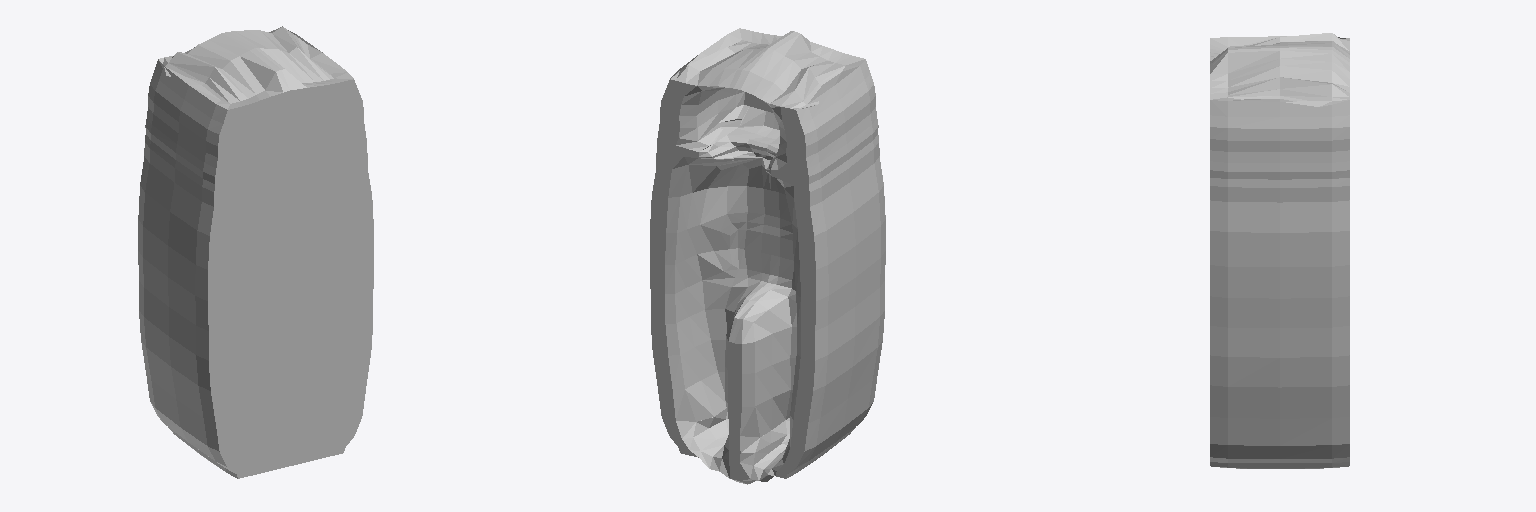
File: AlienPodInterior.obj
3 views of the same model, side by side, from view 1: azimuth 30°, elevation 25°; view 2: azimuth 150°, elevation 25°; view 3: azimuth 270°, elevation 25° (orthographic).
Visible parts, largest first — view 1: AlienPodInterior:pCube1; view 2: AlienPodInterior:pCube1; view 3: AlienPodInterior:pCube1.
Boxes of the visible parts, <box> form: AlienPodInterior:pCube1: <box>138,26,373,478</box>; AlienPodInterior:pCube1: <box>650,28,885,484</box>; AlienPodInterior:pCube1: <box>1210,33,1349,468</box>.
Bounding box in the file's own units: 5.49 × 12.39 × 3.77.